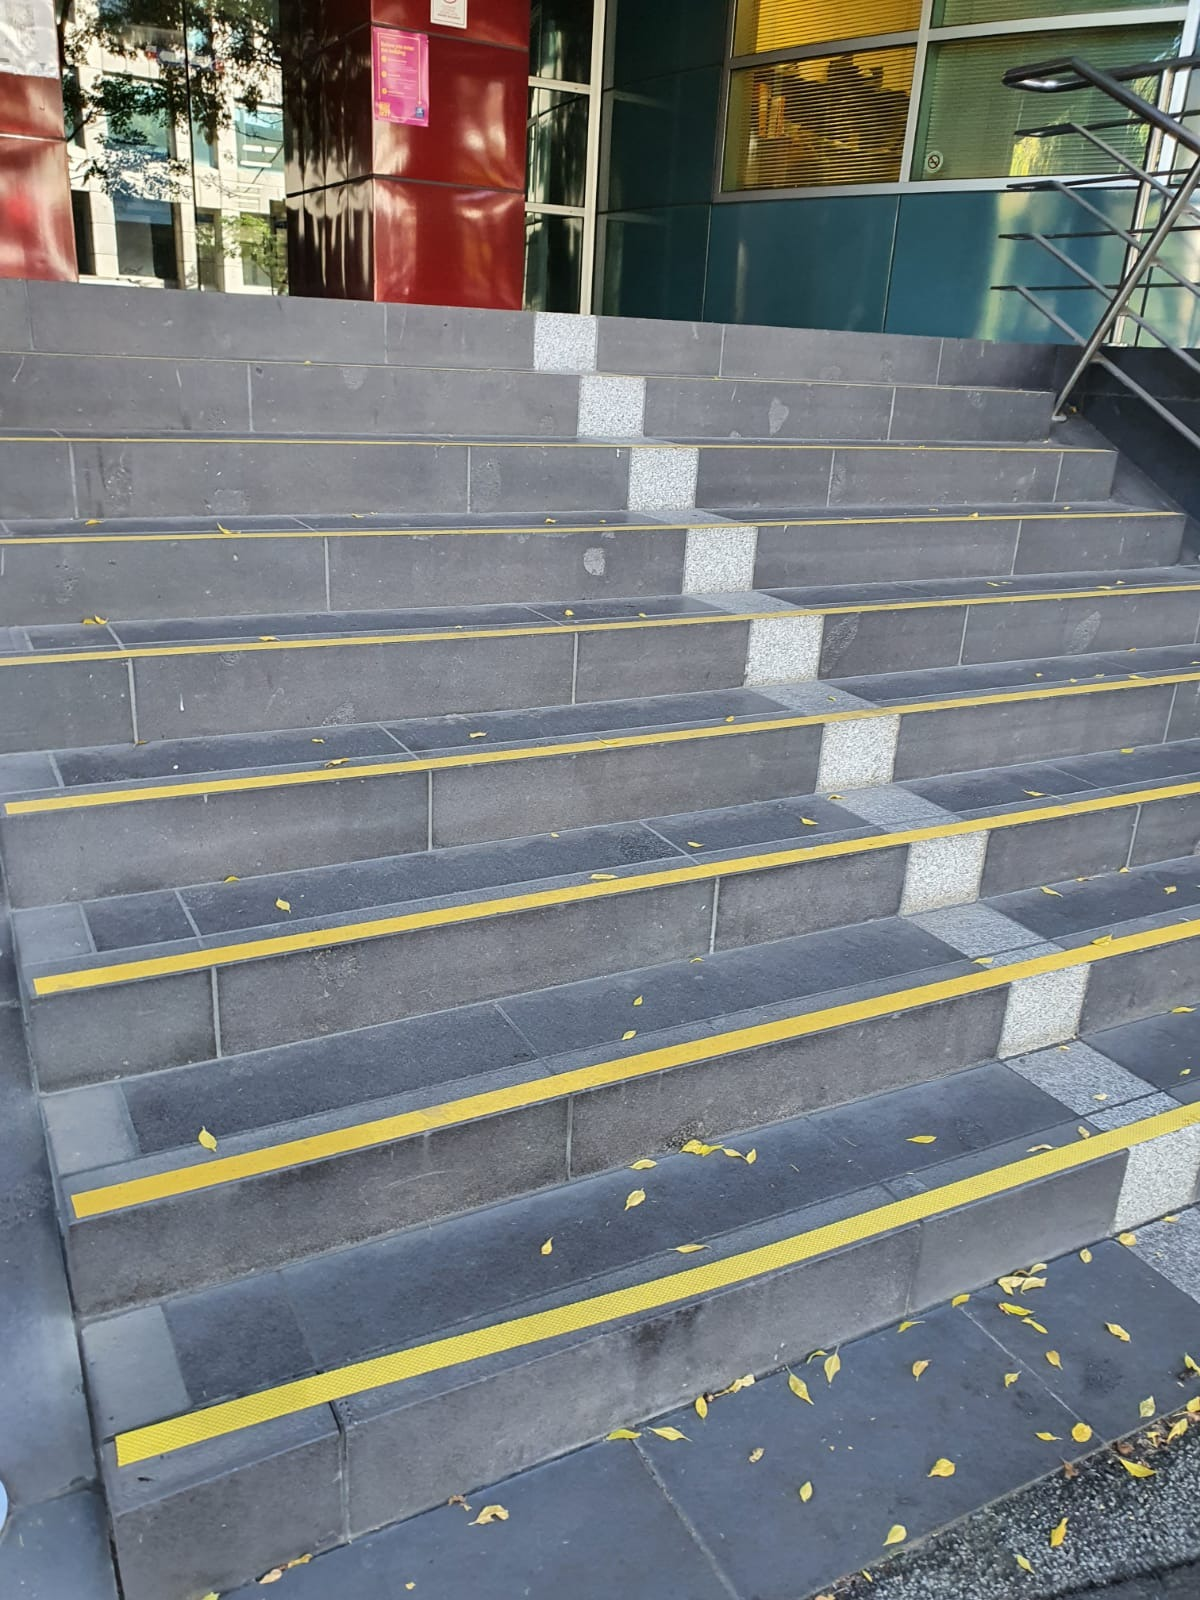upstairs: (89, 663, 1160, 1540)
